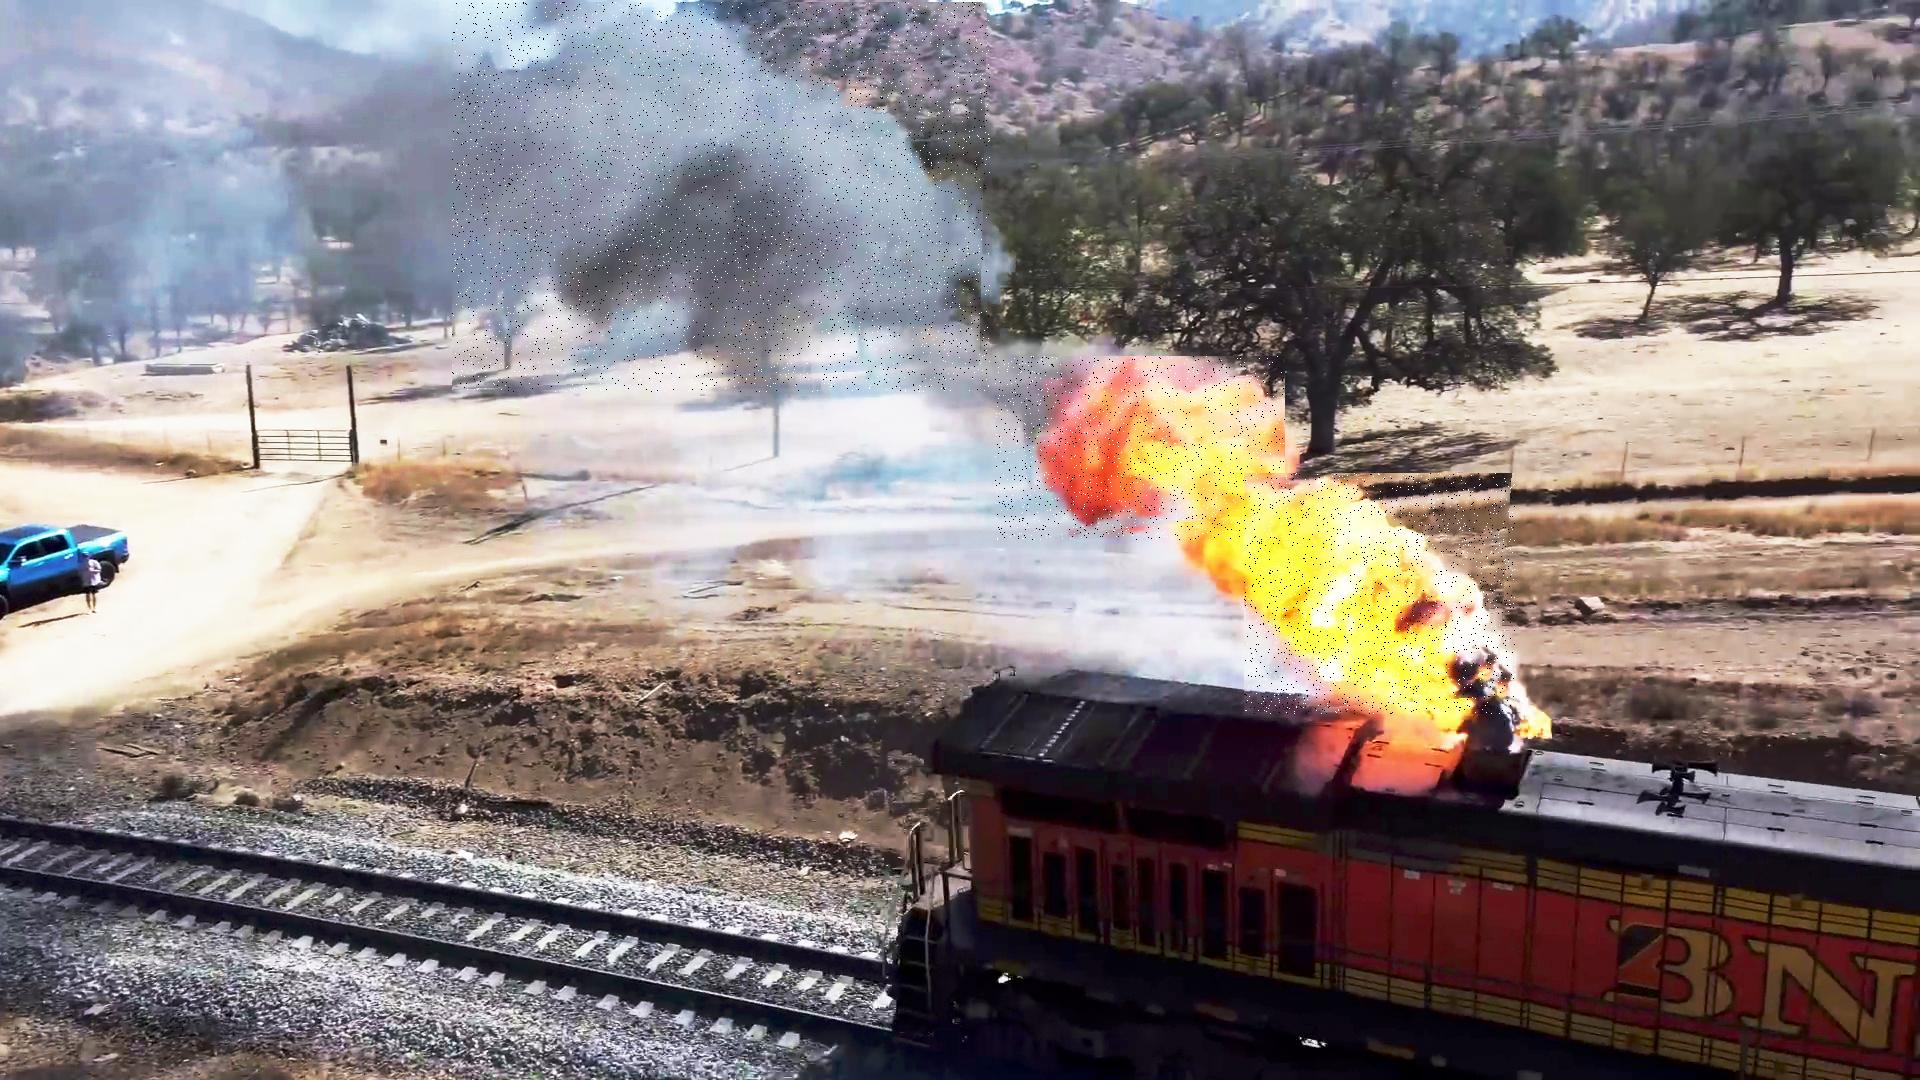fire: (1245, 473, 1515, 715), (996, 356, 1286, 541)
smoke: (454, 3, 992, 393)
